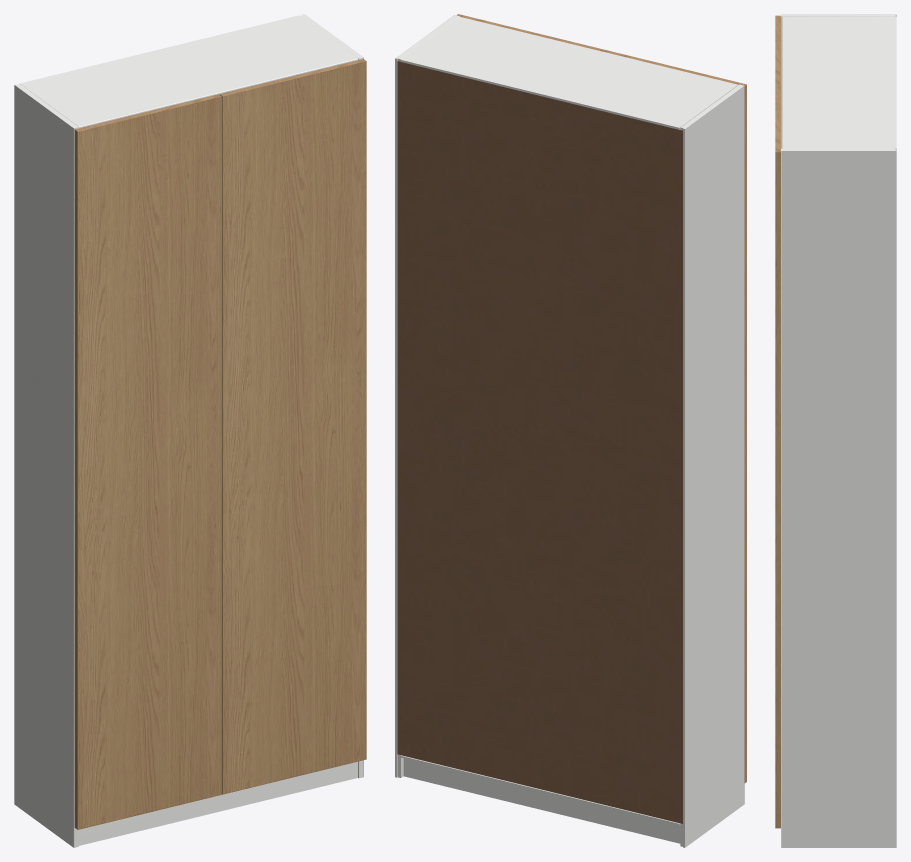
The picture shows the model from 3 angles, left to right: view 1: azimuth 30°, elevation 25°; view 2: azimuth 150°, elevation 25°; view 3: azimuth 270°, elevation 25°; orthographic projection. The views are drawn at different scales.
Parts seen in each view (by area): view 1: 50584373_door, 00214572; view 2: 00214572, 50584373_door; view 3: 00214572, 50584373_door.
Boxes of the visible parts, left/top/right/bottom form: 50584373_door: left=74, top=59, right=366, bottom=829; 00214572: left=14, top=14, right=363, bottom=847; 00214572: left=395, top=15, right=744, bottom=847; 50584373_door: left=457, top=14, right=746, bottom=782; 00214572: left=781, top=14, right=896, bottom=847; 50584373_door: left=775, top=15, right=780, bottom=828.
Bounding box in the file's own units: 0.9978 × 2.36 × 0.3731.
Materials: 2 (2 with a texture image).
